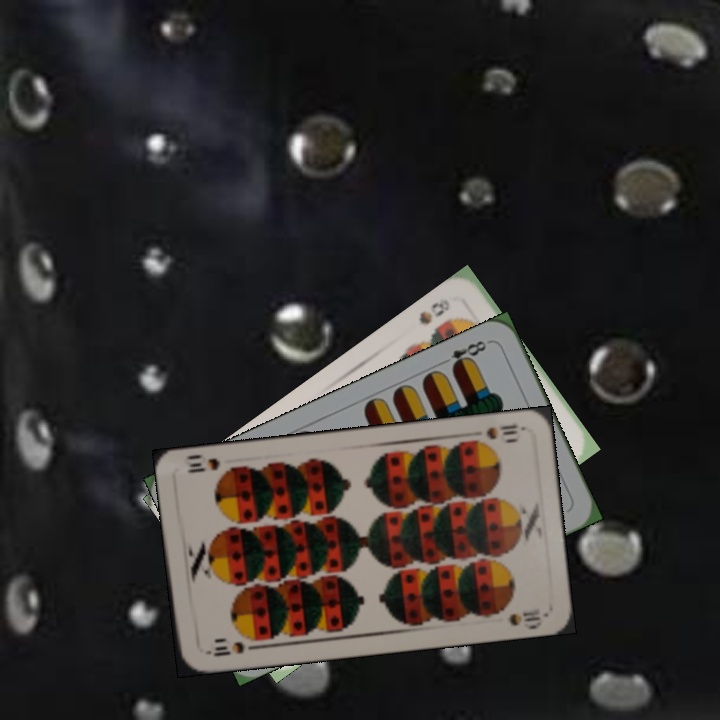E8: (437, 336, 493, 374)
S10: (468, 420, 527, 447), (201, 637, 247, 659)
S8: (415, 294, 453, 327)
